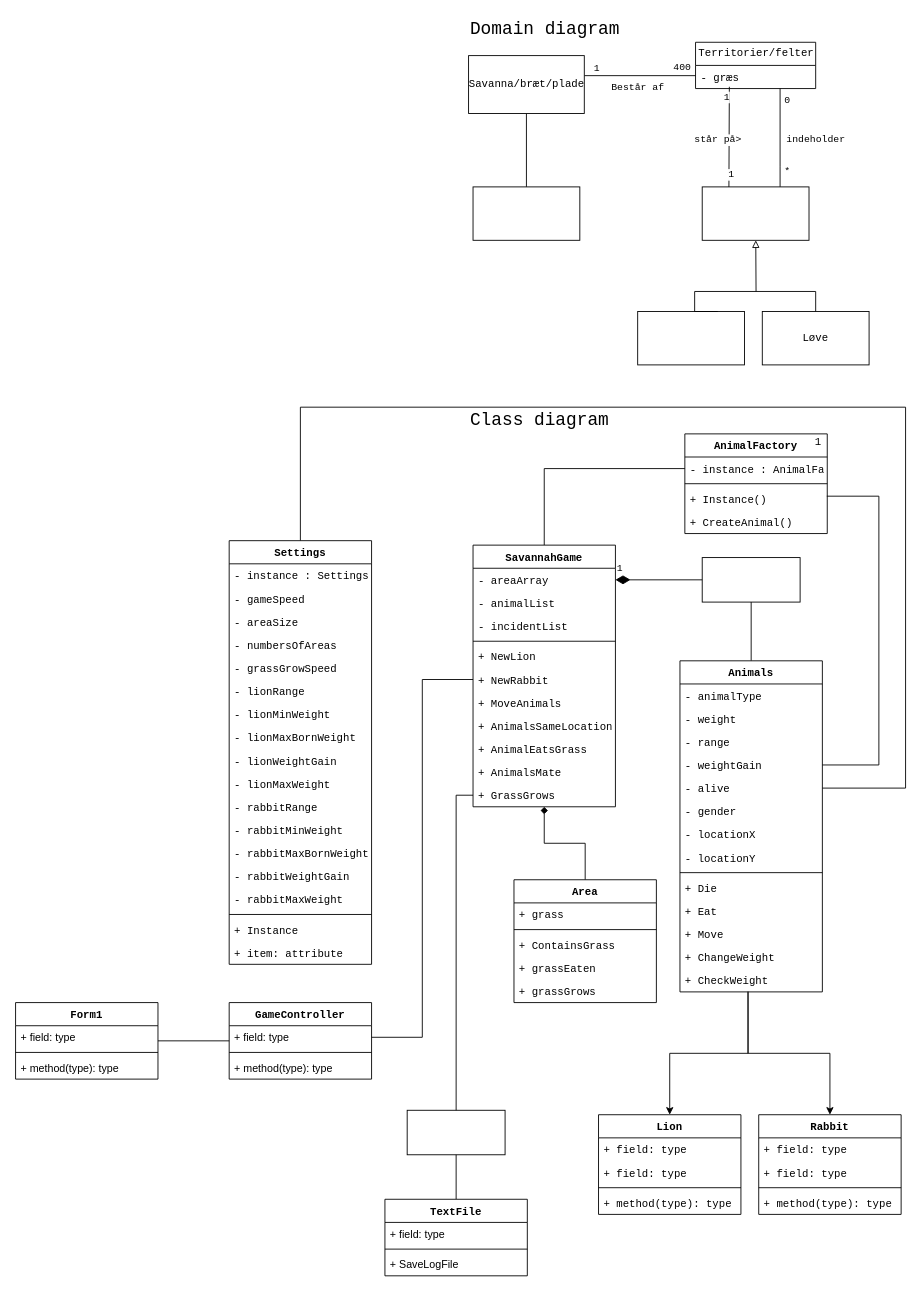
This 922x1293 diagram has some shape labels left out. Here are the shapes that lost their labels. From the top down, the centre of each, then its label:
At point (526, 213): "GameLogic".
At point (755, 213): "<< Dyr >>".
At point (690, 338): "Kanin".
At point (750, 579): "«interface» IAnimal".
At point (455, 1132): "«interface» IDatabase".
